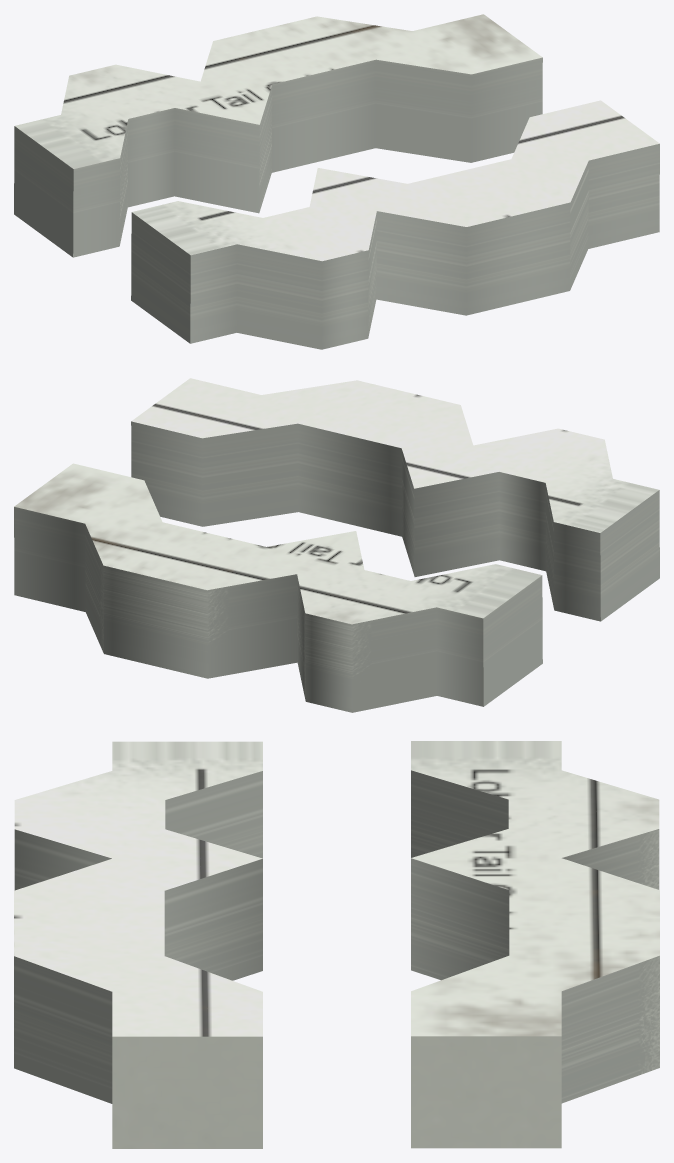
File: Key_Part2.fbx
3 views of the same model, one above another, from view 1: azimuth 30°, elevation 25°; view 2: azimuth 150°, elevation 25°; view 3: azimuth 270°, elevation 25° (orthographic). The views are drawn at different scales.
Parts seen in each view (by area): view 1: Cylinder003.002; view 2: Cylinder003.002; view 3: Cylinder003.002.
Boxes of the visible parts, <box> form: Cylinder003.002: <box>14,14,659,349</box>; Cylinder003.002: <box>14,378,659,712</box>; Cylinder003.002: <box>14,741,659,1148</box>.
Size of the model in its own units: 348 by 64.87 by 326.
